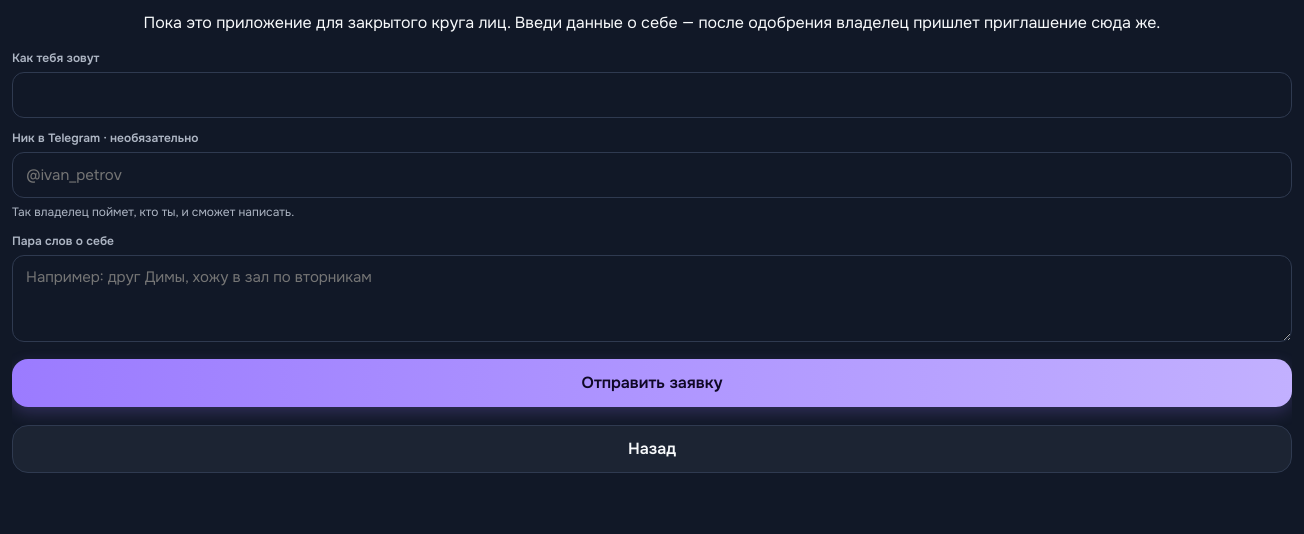
it: JoinRequestForm › кривой ник в Telegram — подсказка до сети (fb_6af9ae21)
The width and height of the screenshot is (1304, 534).
Type "Петя" into the field labelled "Как тебя зовут".
click(652, 95); type("Петя")  # box [12,72,1292,118]
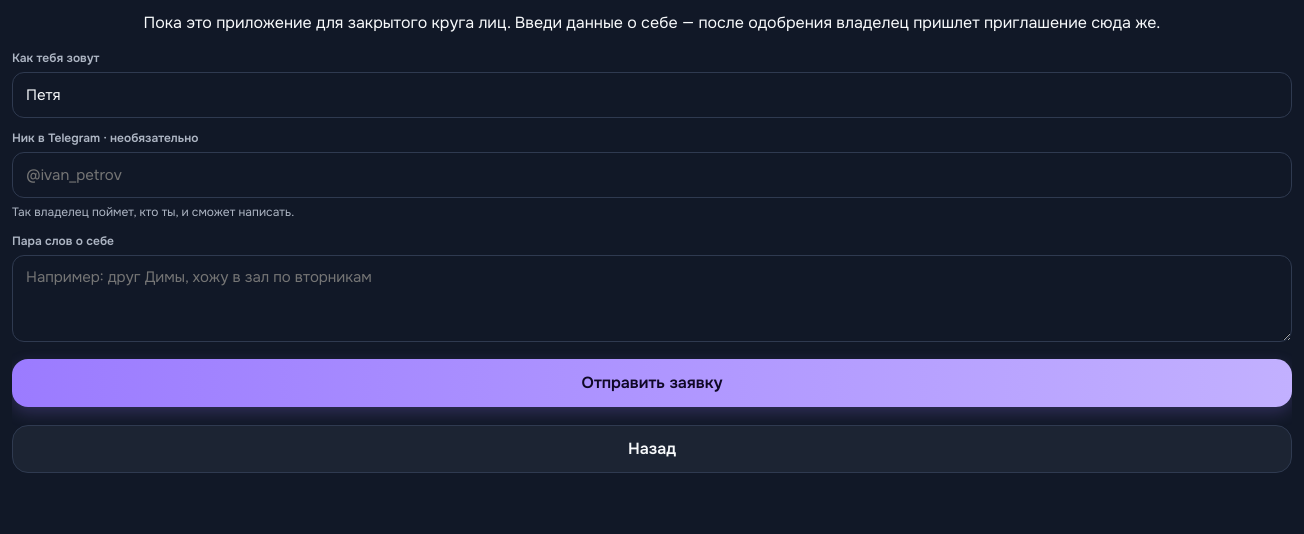
Type "пётр" into the field labelled "Ник в Telegram".
click(652, 175); type("пётр")  # box [12,152,1292,198]
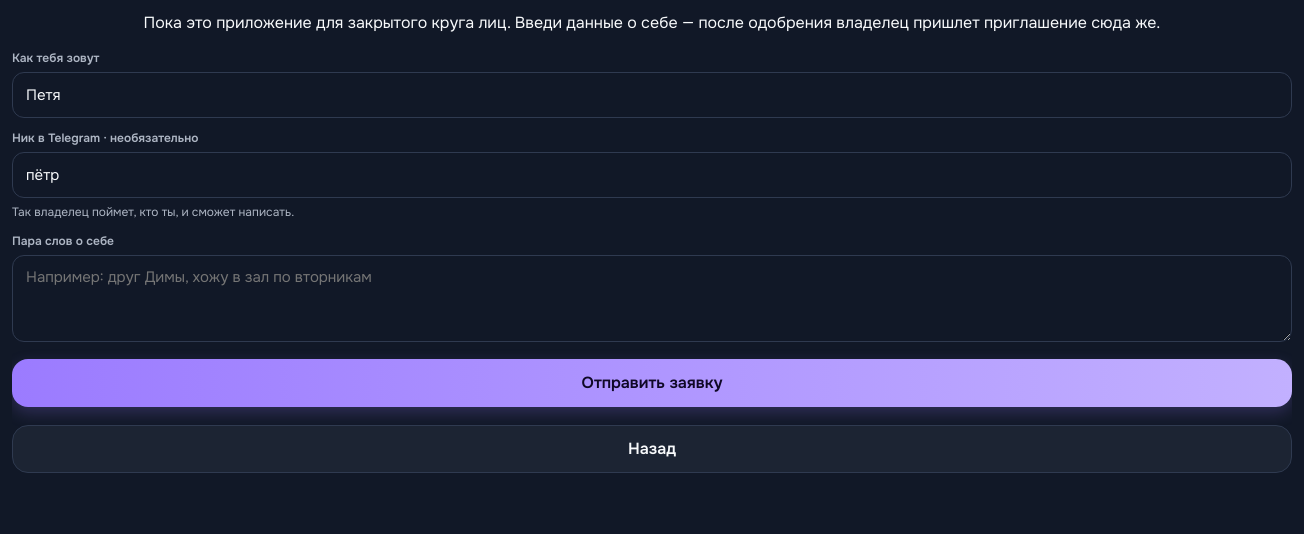
Click the button "Отправить заявку".
click(652, 383)  # box [12,359,1292,407]
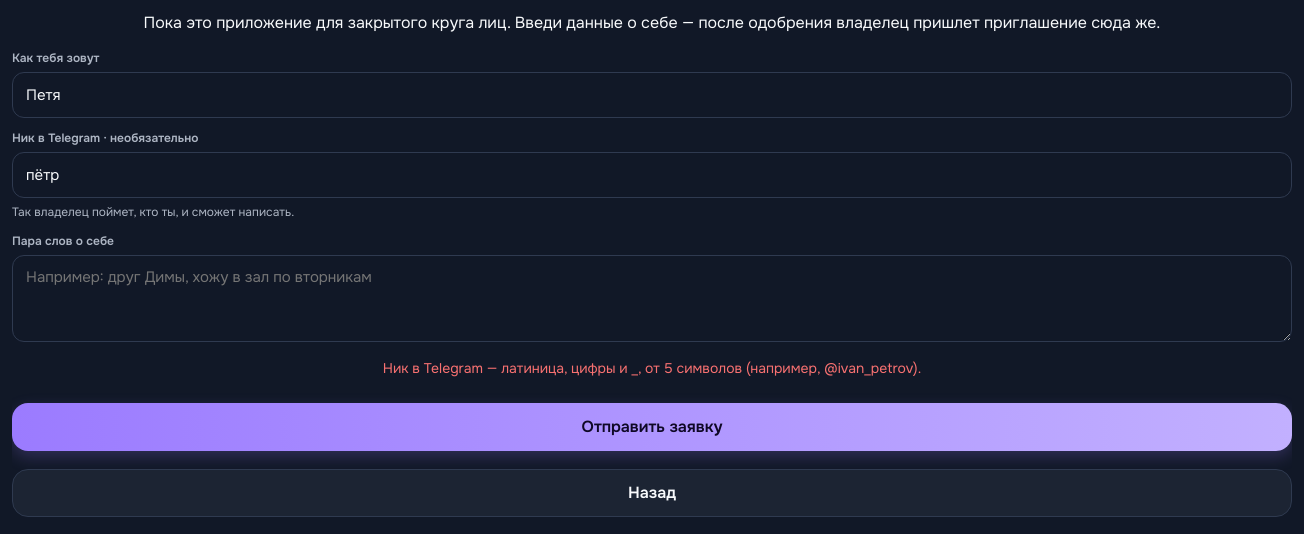
Expected: the message shows "Ник в Telegram", [383,359,921,377]
